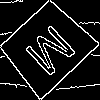M: (22, 23, 85, 85)
